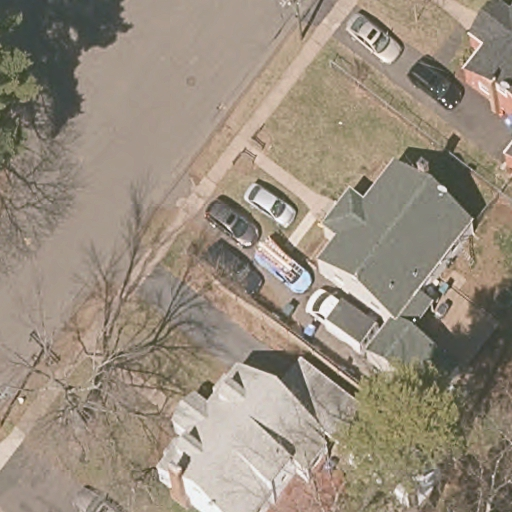DT: (279, 1, 306, 42)
